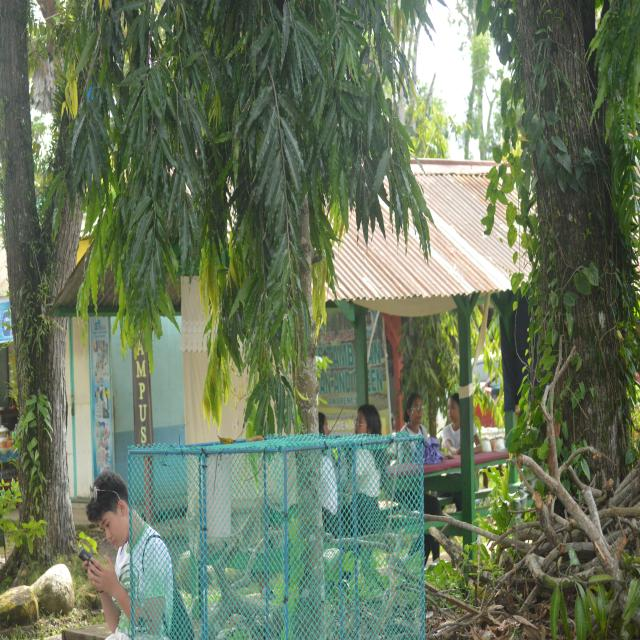person: (84, 471, 173, 639), (399, 393, 429, 442)
